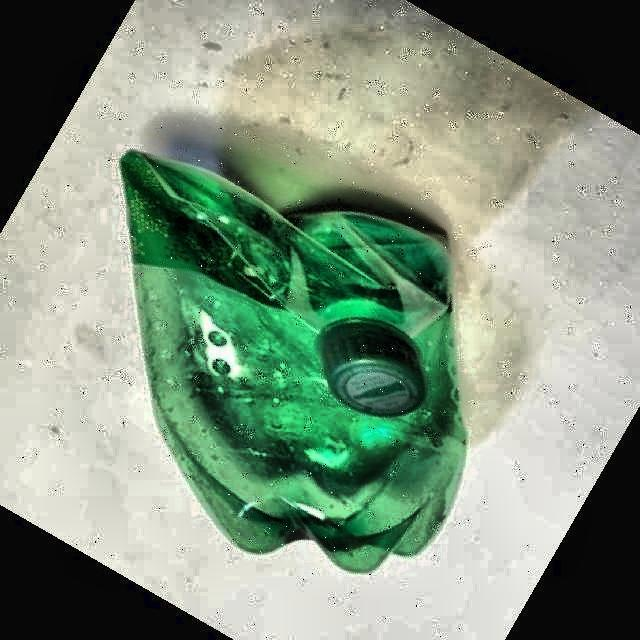plastic: (121, 152, 466, 572)
